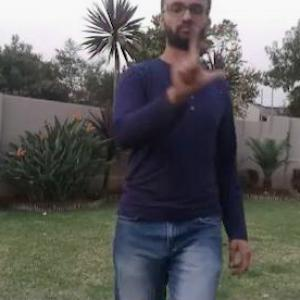land_hand: (171, 20, 227, 94)
